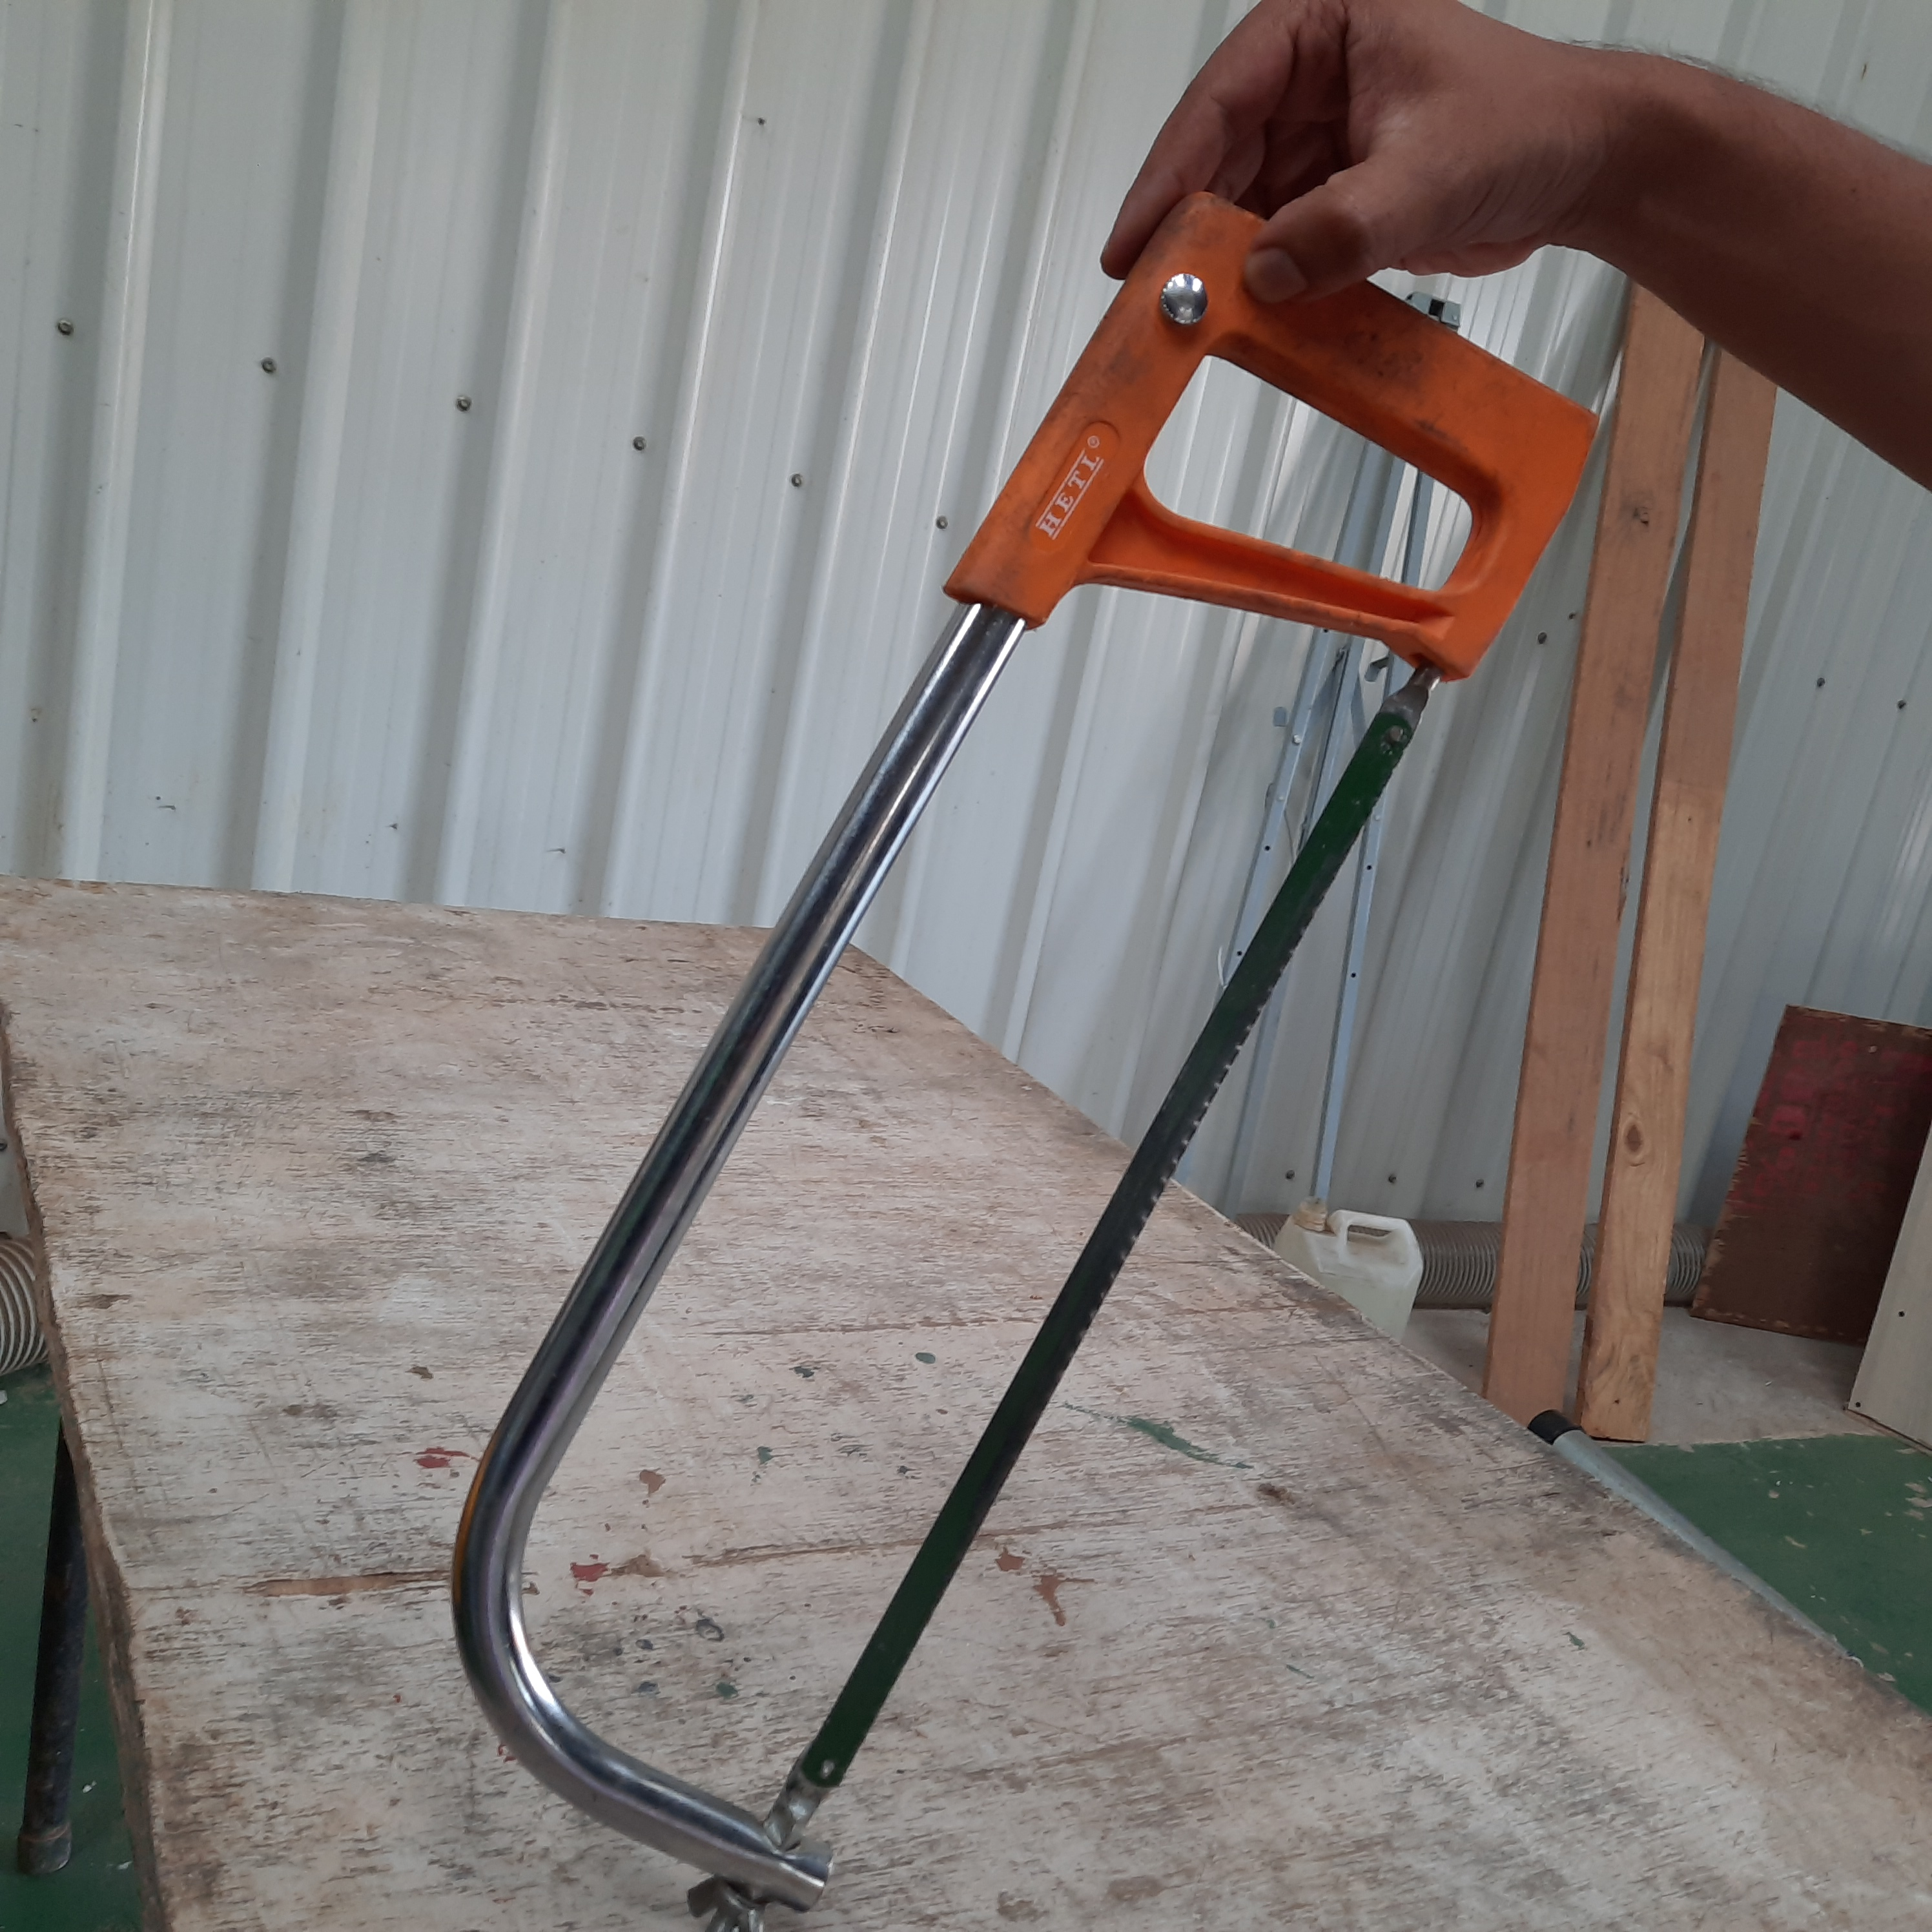Hexaframe: (426, 172, 1601, 1932)
